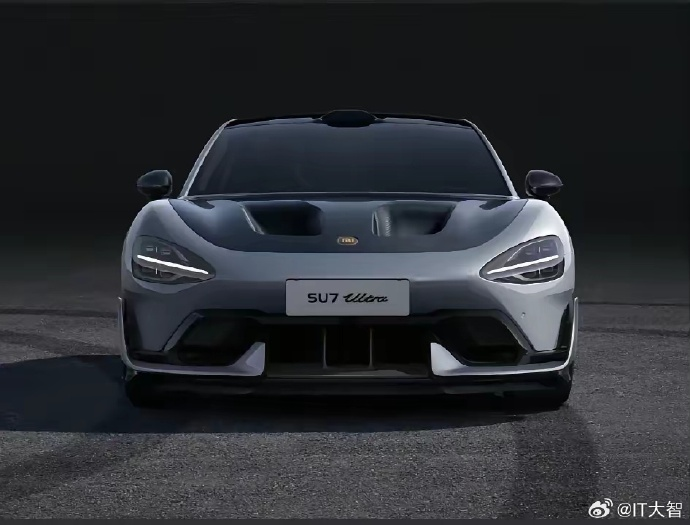su7: (117, 109, 585, 422)
